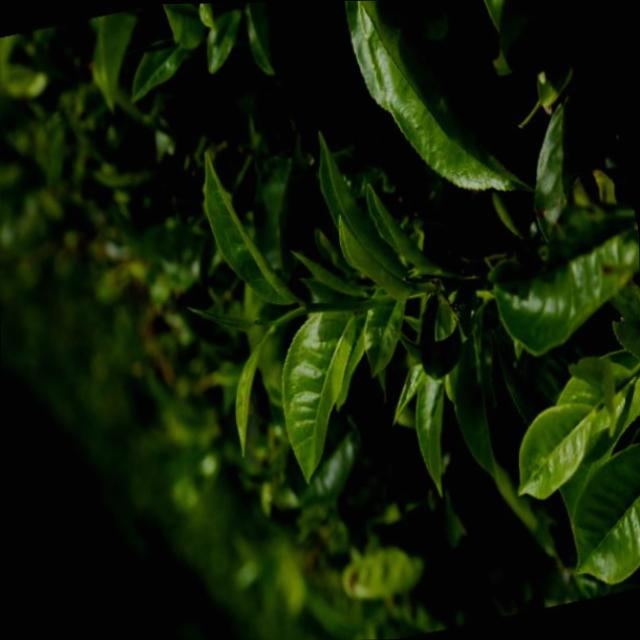Stem: (304, 302, 321, 311)
